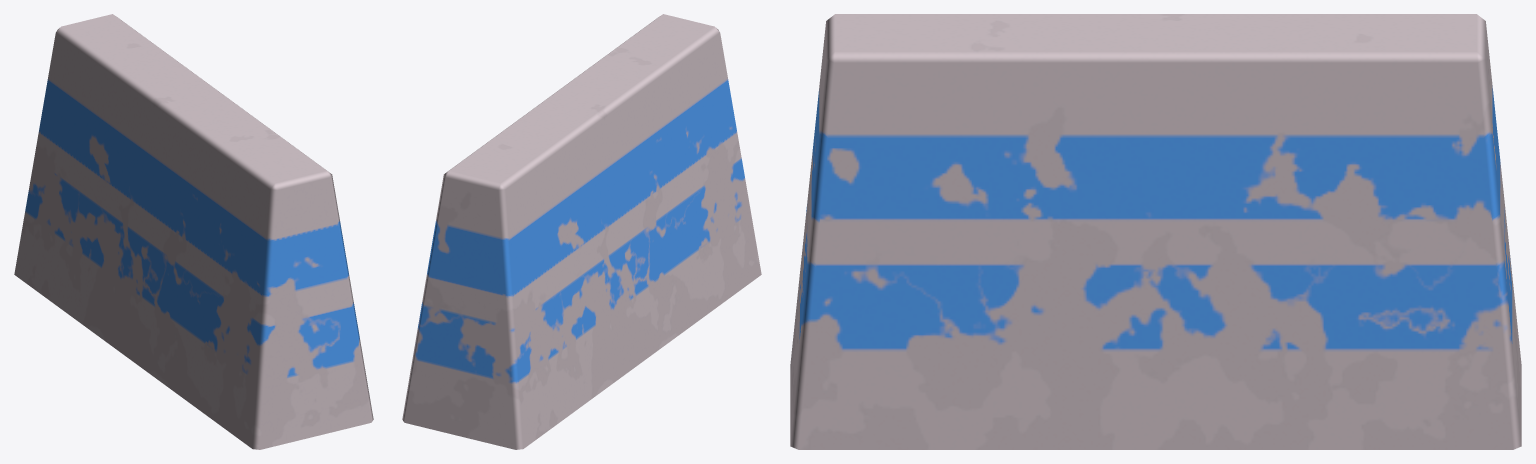
File: Concrete_Barrier.fbx
3 renders of one model, left to right at view 1: azimuth 30°, elevation 25°; view 2: azimuth 150°, elevation 25°; view 3: azimuth 270°, elevation 25°, orthographic. The views are drawn at different scales.
Parts seen in each view (by area): view 1: Barrier_Blue_LOD0; view 2: Barrier_Blue_LOD0; view 3: Barrier_Blue_LOD0.
Boxes of the visible parts, x1,y1,x2,y2 form: Barrier_Blue_LOD0: [14, 14, 373, 449]; Barrier_Blue_LOD0: [402, 14, 761, 449]; Barrier_Blue_LOD0: [790, 14, 1521, 449].
Size of what is drawn, in the model's own units: 57.4 by 113 by 200.
